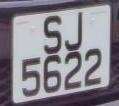2: (62, 49, 85, 96), (83, 45, 106, 89)
5: (18, 53, 44, 104)
6: (41, 53, 64, 98)
J: (63, 11, 87, 55)
S: (40, 13, 65, 59)
